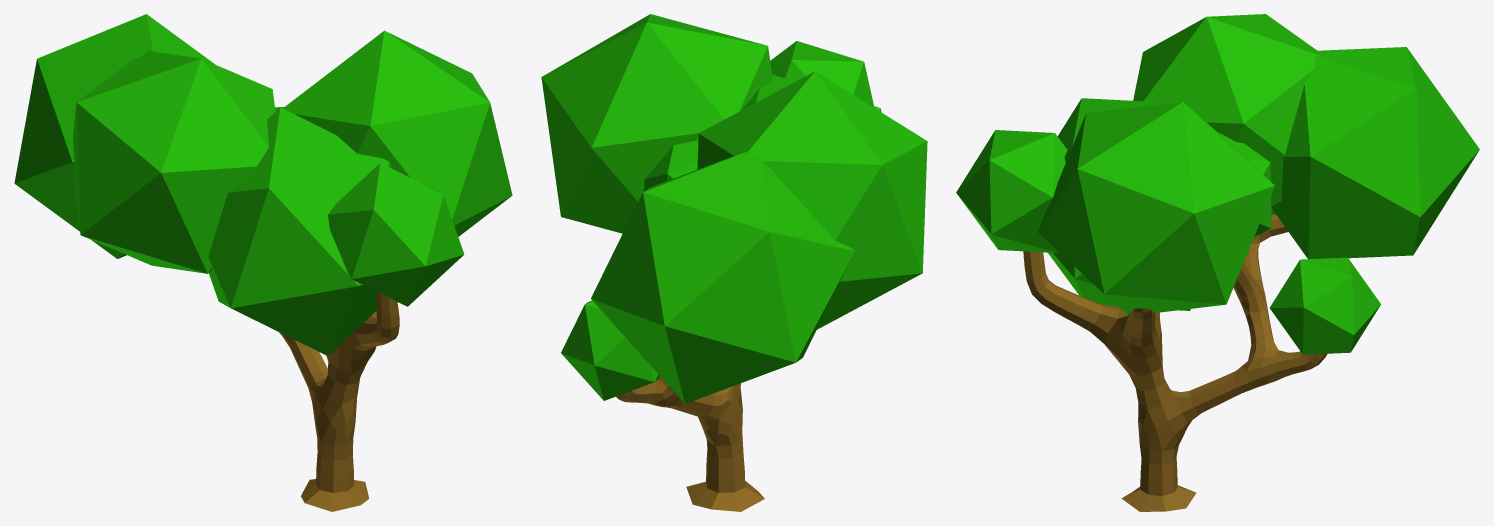
Rendered from Arvore_1.fbx.
3 views of the same model, side by side, from view 1: azimuth 30°, elevation 25°; view 2: azimuth 150°, elevation 25°; view 3: azimuth 270°, elevation 25° (orthographic). The views are drawn at different scales.
Parts seen in each view (by area): view 1: Tree; view 2: Tree; view 3: Tree.
Part boxes in pixels (bbox=[...]): Tree: bbox=[14, 14, 512, 511]; Tree: bbox=[541, 14, 927, 511]; Tree: bbox=[956, 14, 1479, 511].
Size of the model in its own units: 827 by 947 by 1033.
